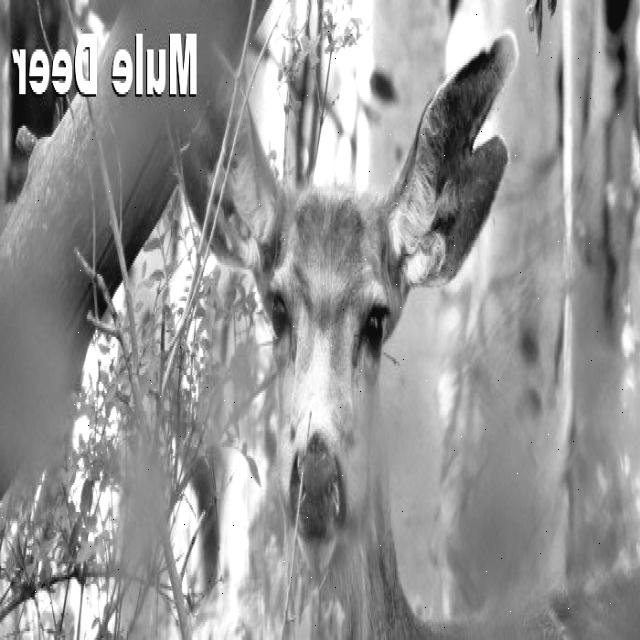deer: (173, 25, 520, 607)
